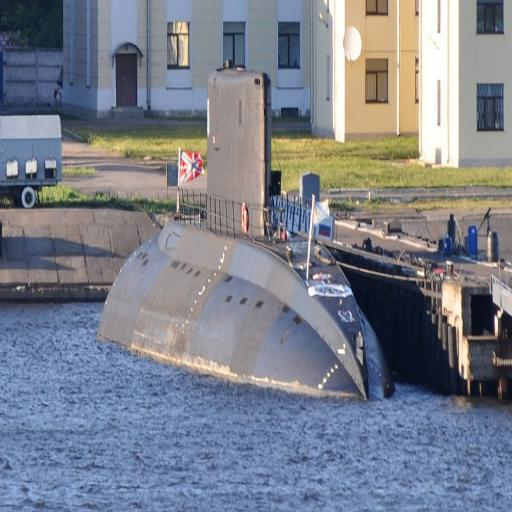submarine: (92, 50, 398, 399)
